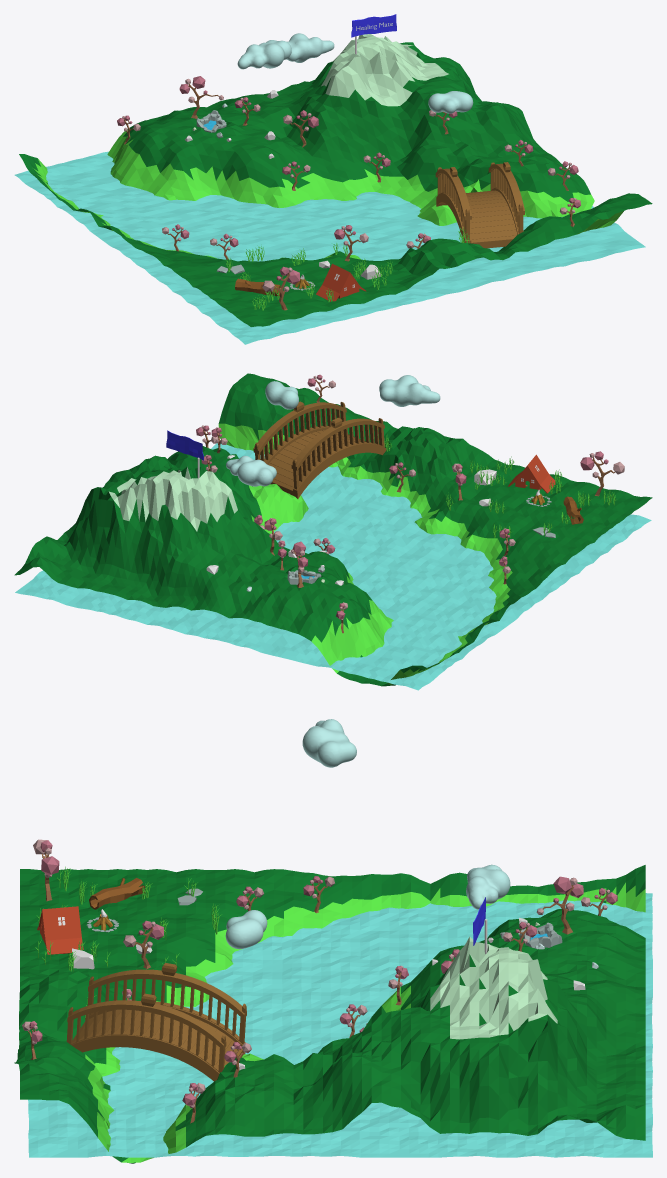
File: background.fbx
3 views of the same model, one above another, from view 1: azimuth 30°, elevation 25°; view 2: azimuth 150°, elevation 25°; view 3: azimuth 270°, elevation 25° (orthographic). The views are drawn at different scales.
Visible parts, largest first — view 1: Plane.004, Plane.003, Cube.030, fluf, Cube.003, Plane; view 2: Plane.004, Plane.003, Cube.030, fluf, Cube.003, Plane; view 3: Plane.004, Plane.003, Cube.030, fluf, Cube.003, Circle.
Part boxes in pixels (x1,y1,x2,y2): Plane.004: (19, 34, 652, 326); Plane.003: (14, 151, 645, 344); Cube.030: (435, 162, 524, 248); fluf: (237, 33, 473, 113); Cube.003: (316, 263, 366, 301); Plane: (351, 14, 396, 37); Plane.004: (14, 373, 652, 686); Plane.003: (15, 443, 651, 690); Cube.030: (253, 401, 386, 498); fluf: (226, 375, 440, 486); Cube.003: (508, 454, 555, 493); Plane: (166, 430, 203, 460); Plane.004: (14, 865, 645, 1163); Plane.003: (28, 893, 652, 1157); Cube.030: (66, 963, 246, 1081); fluf: (225, 719, 510, 949); Cube.003: (37, 906, 83, 954); Circle: (89, 878, 144, 909).
Bounding box in the file's own units: 3663 × 2016 × 3709.
